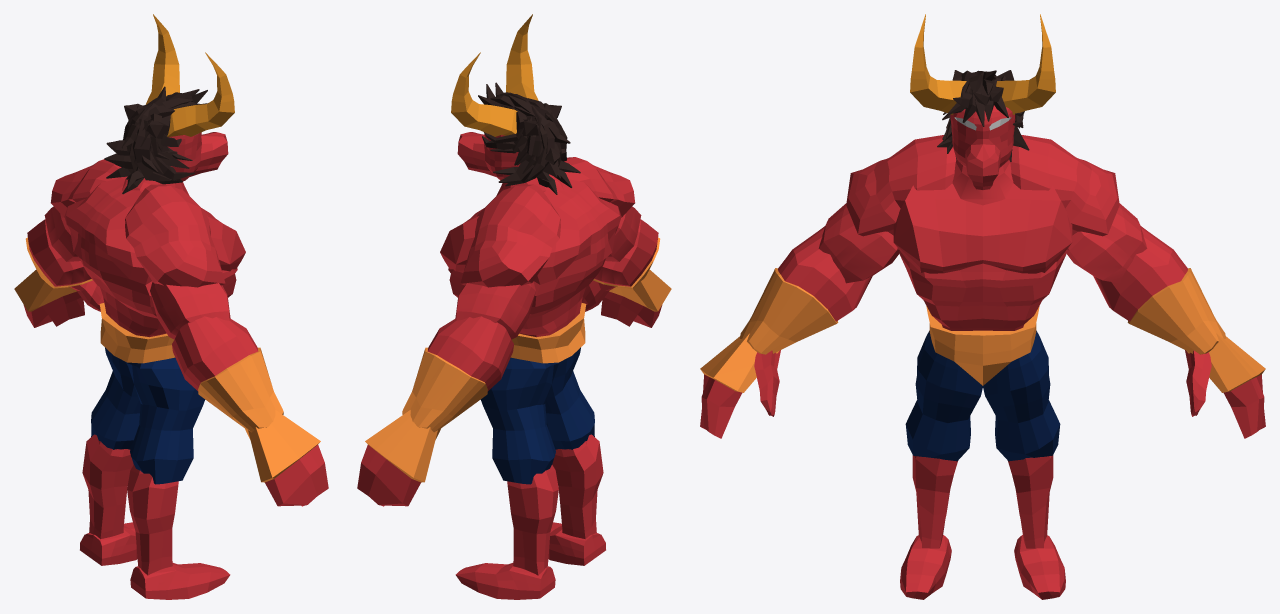
The picture shows the model from 3 angles, left to right: view 1: azimuth 30°, elevation 25°; view 2: azimuth 150°, elevation 25°; view 3: azimuth 270°, elevation 25°; orthographic projection. The views are drawn at different scales.
Parts seen in each view (by area): view 1: forearm.005, shoulder.004, thigh.006, breast.001, Cube.034, hand.003, calves.003, horns, calves.001, stomach, thigh.003, bicep.005 (+9 smaller); view 2: forearm.002, shoulder.022, thigh.003, breast.001, Cube.034, hand.001, calves.001, horns, calves.003, stomach, thigh.006, bicep.002 (+9 smaller); view 3: breast.001, forearm.005, forearm.002, stomach, thigh.006, thigh.003, shoulder.004, shoulder.022, horns, hip, head.001, hand.003 (+11 smaller).
Part boxes in pixels (x1,y1,x2,y2): forearm.005: (172, 316, 283, 432); shoulder.004: (125, 184, 225, 287); thigh.006: (127, 357, 205, 484); breast.001: (64, 177, 245, 284); Cube.034: (104, 86, 207, 194); hand.003: (245, 410, 328, 506); calves.003: (127, 465, 178, 575); horns: (145, 14, 234, 136); calves.001: (82, 434, 133, 539); stomach: (80, 258, 237, 337); thigh.003: (91, 347, 140, 449); bicep.005: (150, 282, 230, 339); forearm.002: (402, 316, 513, 432); shoulder.022: (460, 184, 560, 287); thigh.003: (480, 357, 558, 484); breast.001: (440, 179, 621, 284); Cube.034: (478, 82, 580, 194); hand.001: (357, 410, 440, 506); calves.001: (507, 465, 558, 575); horns: (451, 14, 538, 136); calves.003: (552, 434, 603, 539); stomach: (448, 258, 605, 337); thigh.006: (545, 347, 594, 449); bicep.002: (455, 282, 535, 339); breast.001: (893, 183, 1072, 273); forearm.005: (740, 226, 872, 354); forearm.002: (1093, 226, 1225, 354); stomach: (899, 250, 1066, 330); thigh.006: (905, 330, 982, 461); thigh.003: (983, 330, 1060, 461); shoulder.004: (846, 135, 956, 236); shoulder.022: (1010, 135, 1119, 236); horns: (910, 14, 1055, 114); hip: (926, 306, 1039, 385); head.001: (950, 105, 1015, 189); hand.003: (700, 333, 778, 438).
Size of the model in its own units: 103 by 372 by 326.
